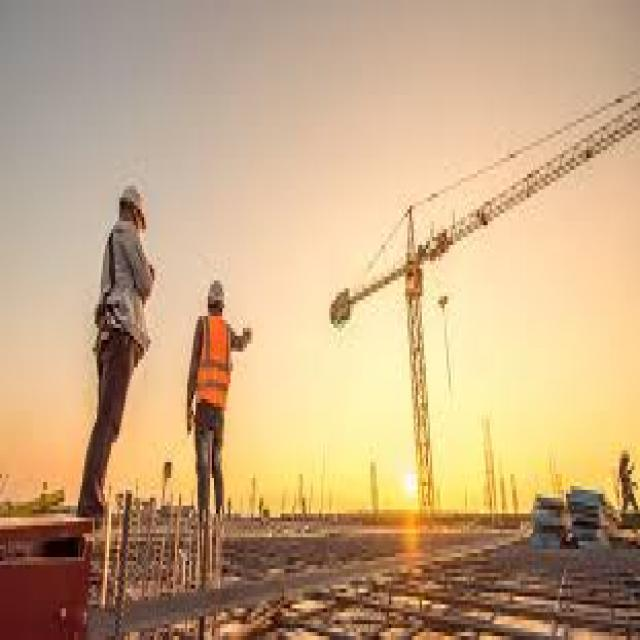Reflective-Jacket: (189, 312, 239, 419)
Safety-Helmet: (113, 170, 152, 233), (202, 269, 230, 316)
